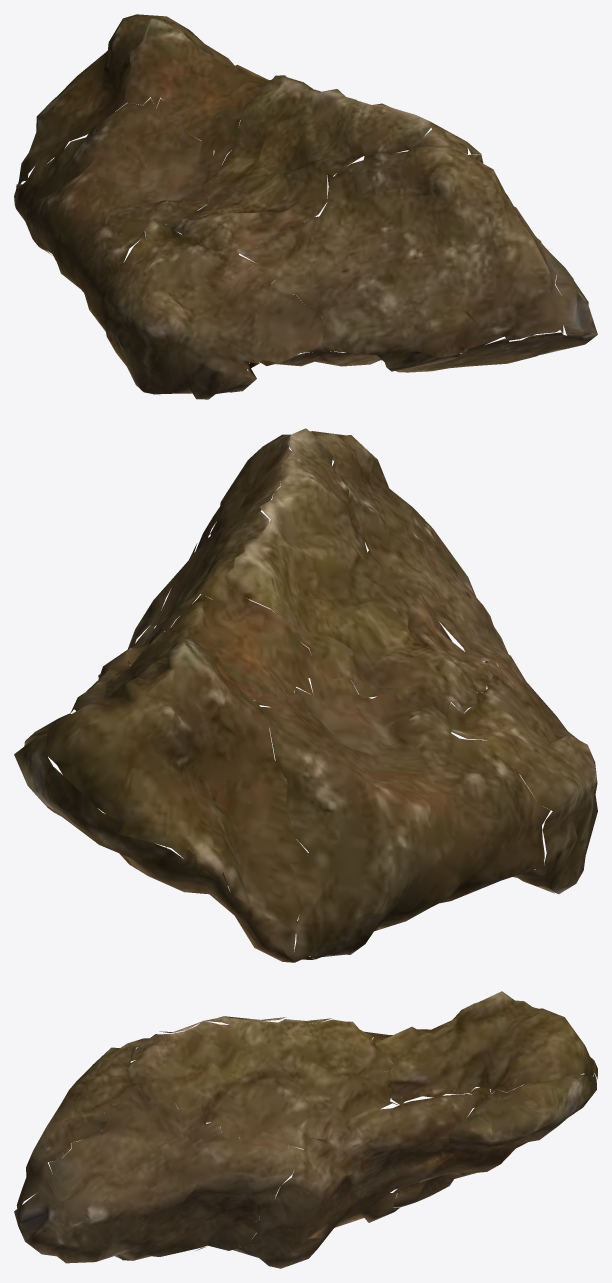
The model's file is rock-moss-set-01-rock01.glb.
3 renders of one model, top to bottom at view 1: azimuth 30°, elevation 25°; view 2: azimuth 150°, elevation 25°; view 3: azimuth 270°, elevation 25°, orthographic. The views are drawn at different scales.
Visible parts, largest first — view 1: rock_moss_set_01_rock01; view 2: rock_moss_set_01_rock01; view 3: rock_moss_set_01_rock01.
Boxes of the visible parts, x1,y1,x2,y2 form: rock_moss_set_01_rock01: (14, 14, 597, 399); rock_moss_set_01_rock01: (14, 428, 597, 962); rock_moss_set_01_rock01: (14, 991, 597, 1268).
Bounding box in the file's own units: 2.24 × 1.47 × 3.38.
Materials: 1 (1 with a texture image).
